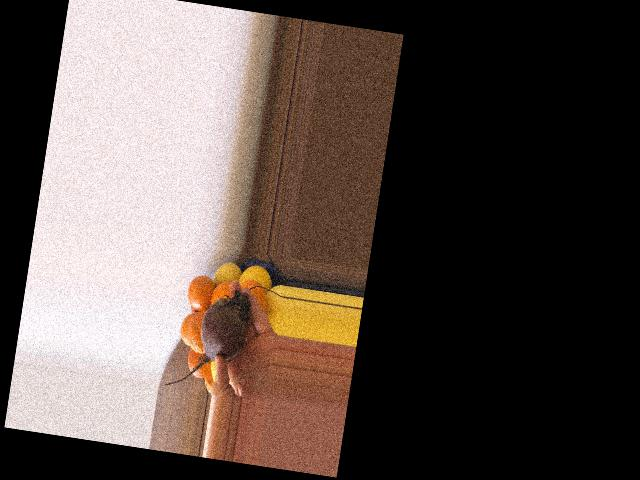beet: (165, 282, 253, 396)
